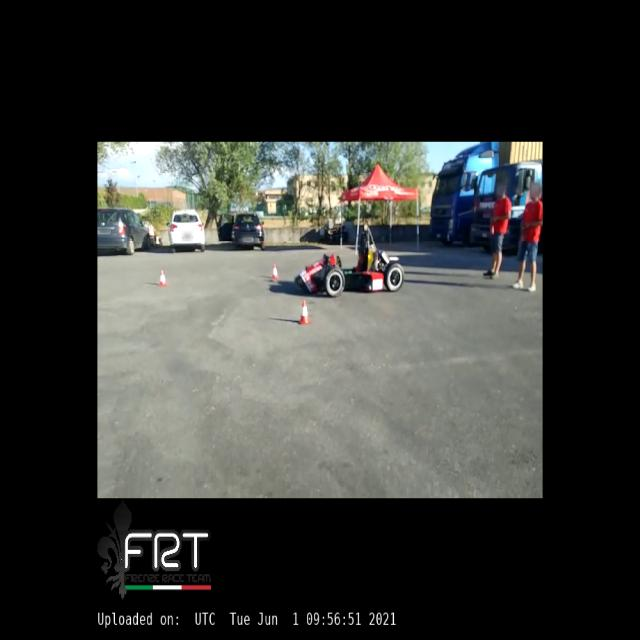orange_cone: (298, 300, 311, 324), (270, 264, 280, 280), (158, 270, 167, 286)
